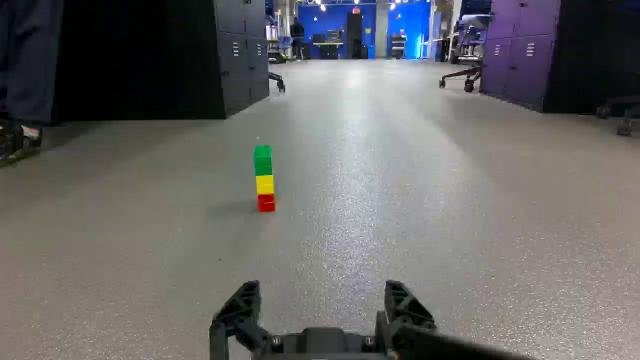lego: (259, 143, 275, 213)
